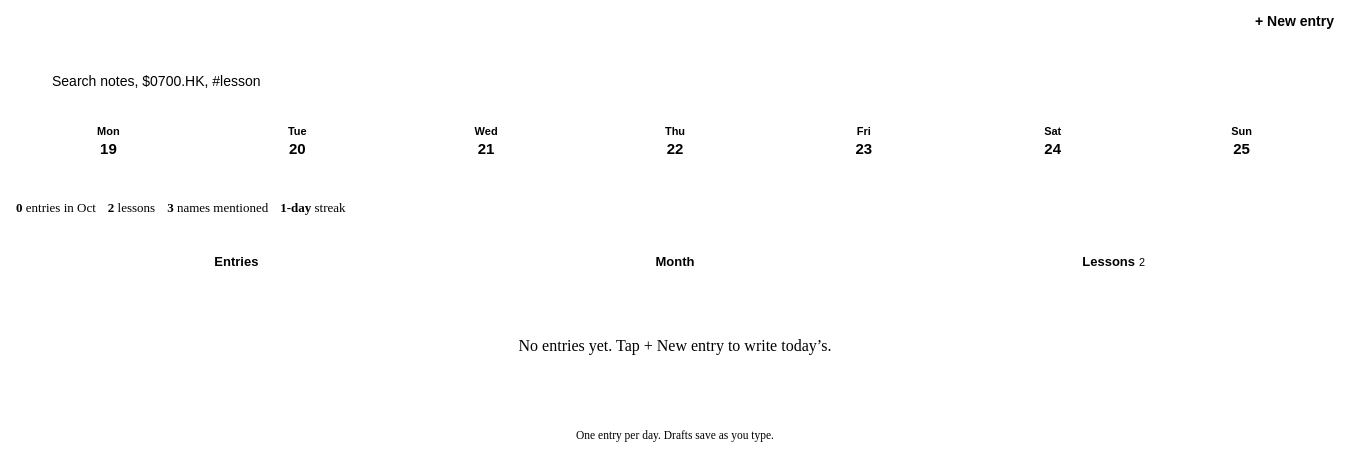
searching › sends words, a symbol and a tag to the server as separate parameters, after a pause
Expected: the text "No entries yet. Tap + New entry to write today’s." is shown, [519,337,832,354]
Step 1. Type "premium $NKE #breach" into the search field named "Search entries" → {"x": 687, "y": 81}, box [52,63,1322,99]
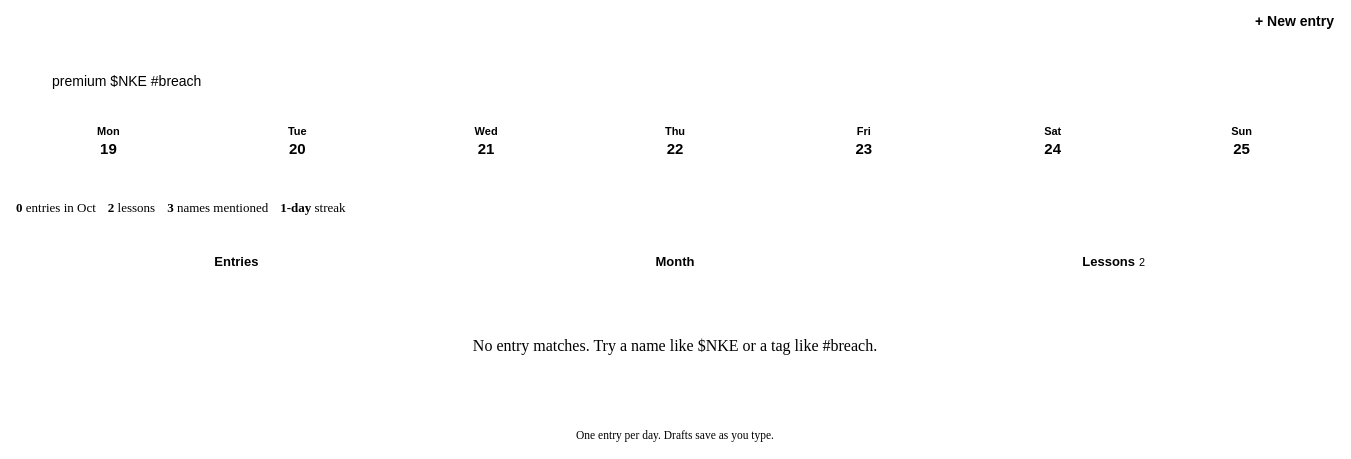
Result: the text "No entry matches" is shown at [473,337,877,354]
